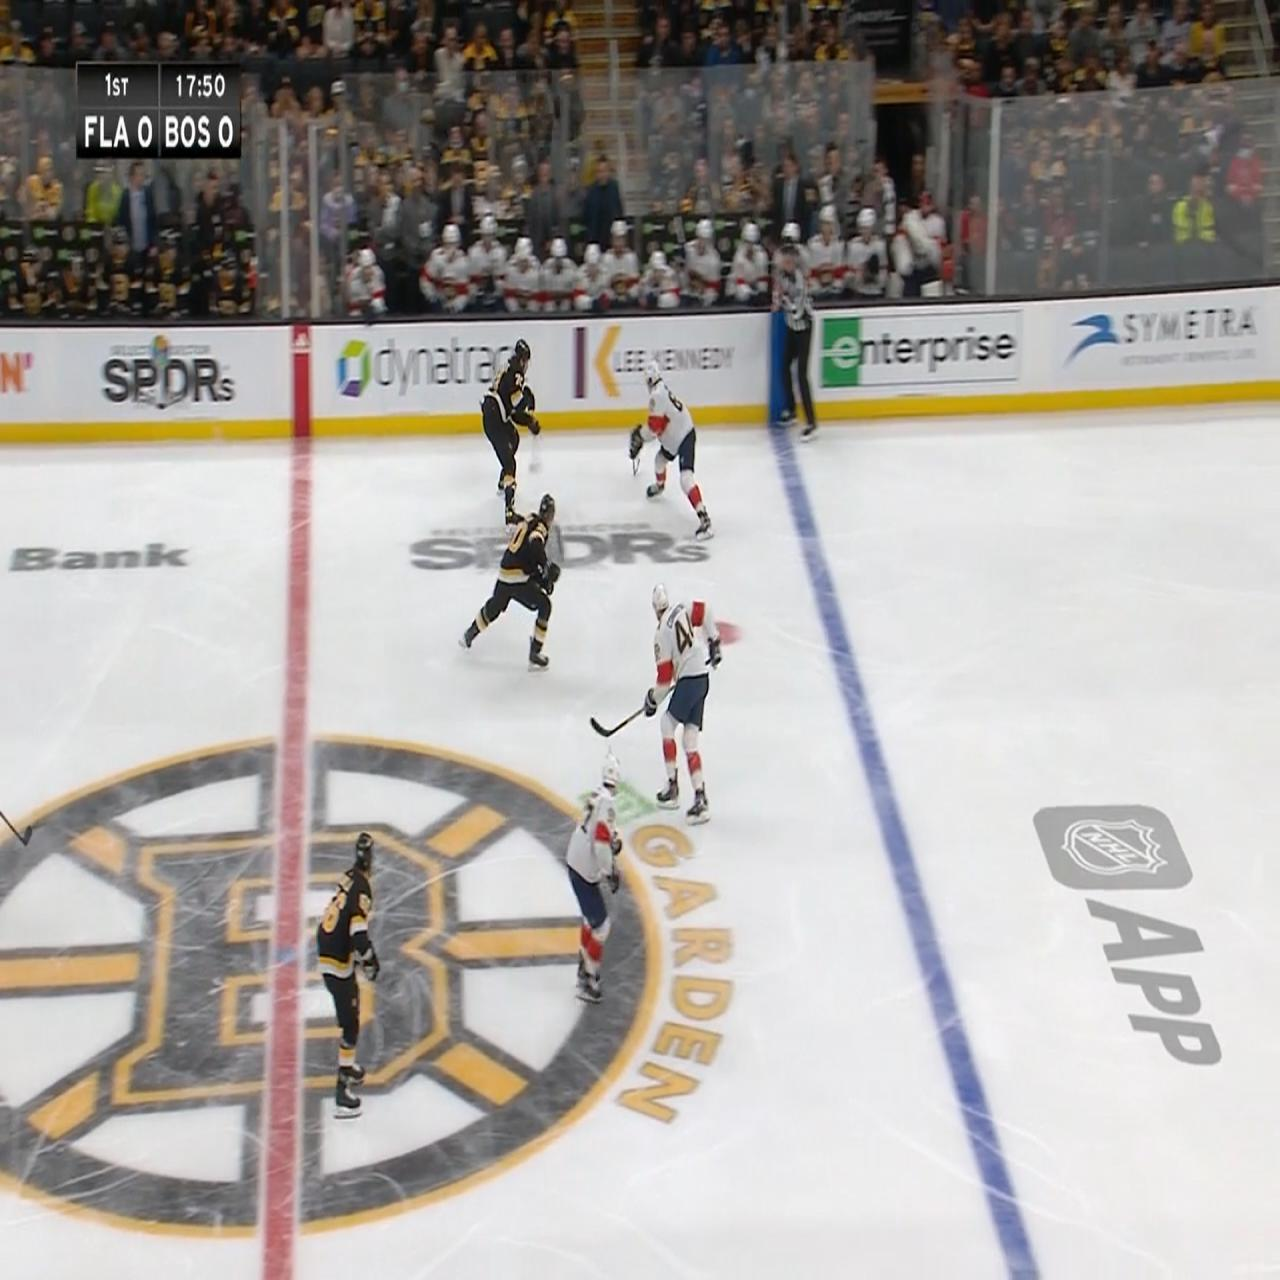Ad: (1034, 794, 1226, 1095), (413, 515, 708, 572), (340, 327, 525, 415), (1067, 299, 1260, 374), (822, 315, 1023, 382), (4, 531, 191, 602), (566, 322, 743, 396), (103, 333, 239, 420)
